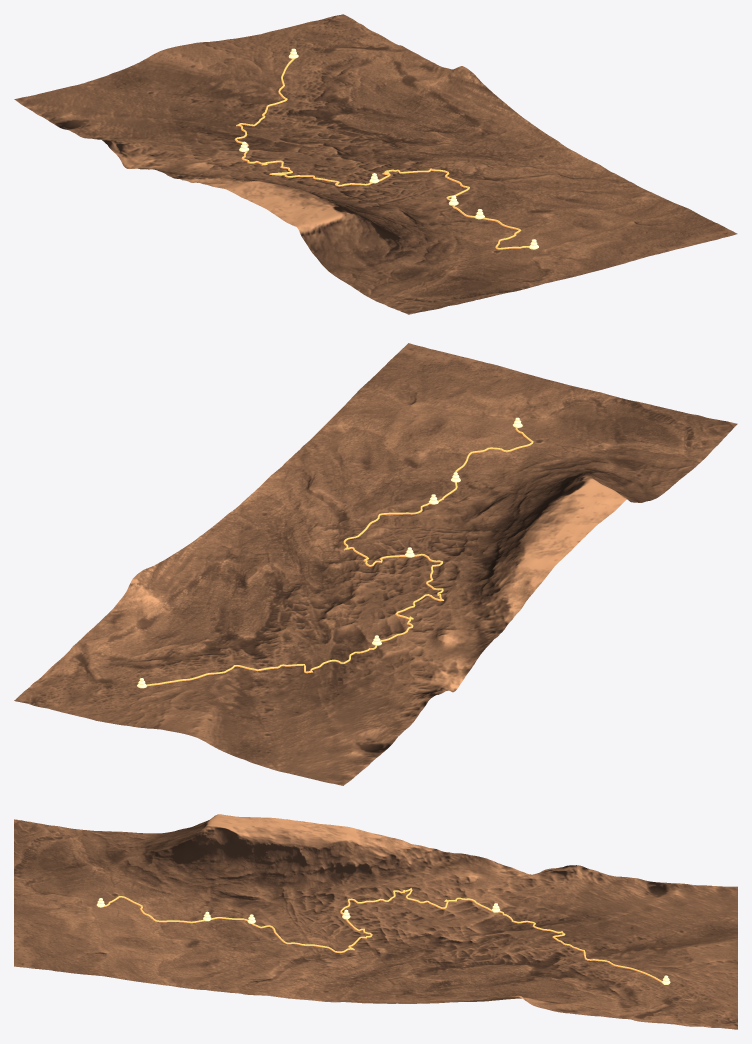
Rendered from site.glb.
3 views of the same model, one above another, from view 1: azimuth 30°, elevation 25°; view 2: azimuth 150°, elevation 25°; view 3: azimuth 270°, elevation 25° (orthographic). The views are drawn at different scales.
Parts seen in each view (by area): view 1: Site terrain lite, EVA route; view 2: Site terrain lite, EVA route; view 3: Site terrain lite, EVA route.
Part boxes in pixels (<box>): Site terrain lite: <box>14,14,737,314</box>; EVA route: <box>234,58,529,249</box>; Site terrain lite: <box>14,343,737,785</box>; EVA route: <box>146,427,533,686</box>; Site terrain lite: <box>14,814,737,1029</box>; EVA route: <box>104,888,662,982</box>.
Bounding box in the file's own units: 528 × 134 × 1095.
3 materials, 1 textured.
